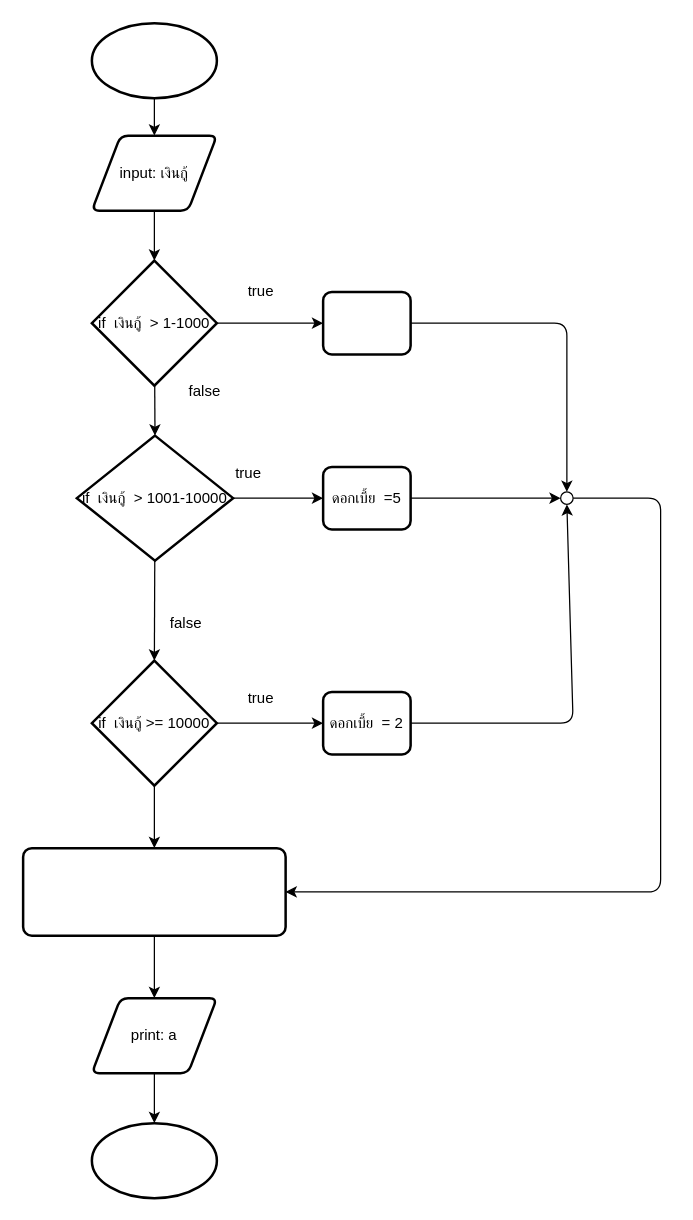
Image size: 693x1220. Some labels were removed from this diagram. The box of each missing label's shape, as (x1, y1, x2, y2) in pixels:
a = (เงินต้น /100) * ดอกเบี้ย: (21, 846, 286, 936)
end: (90, 1121, 218, 1199)
start: (90, 21, 218, 99)
ดอกเขี้ย = 10: (321, 290, 411, 355)
